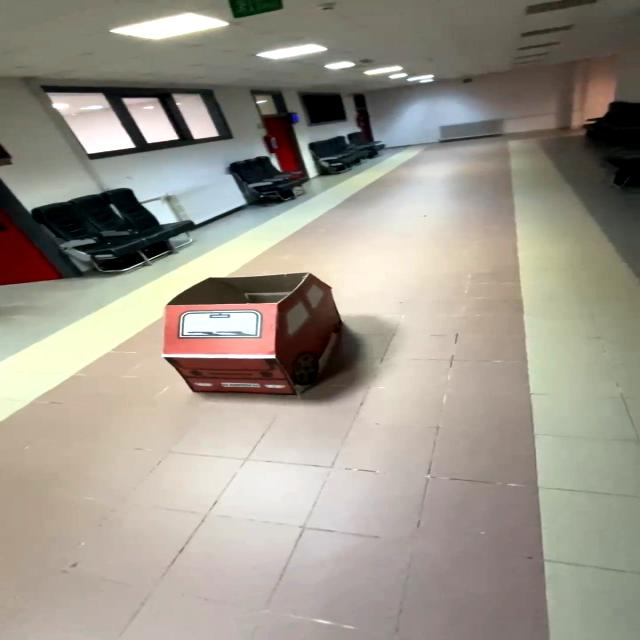red_car: (130, 261, 372, 409)
